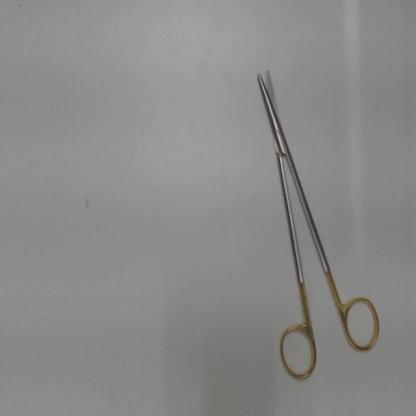7 Metzenbaum Scissors: (250, 60, 386, 386)
